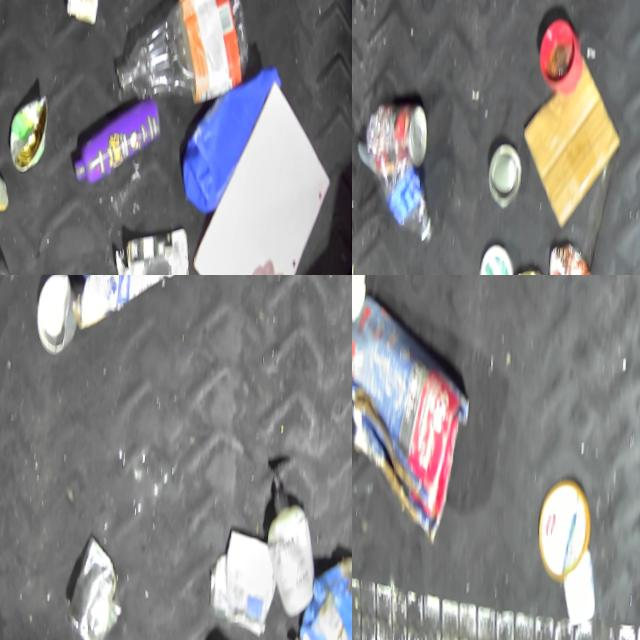can: (71, 527, 138, 640), (228, 518, 290, 630), (372, 91, 435, 178), (9, 85, 53, 171), (35, 275, 83, 350), (489, 136, 530, 206), (547, 232, 604, 275), (212, 543, 237, 613), (516, 260, 558, 275)
non_white_jug: (178, 47, 288, 212)
plastic_bottle: (112, 0, 255, 101), (378, 161, 444, 246)
